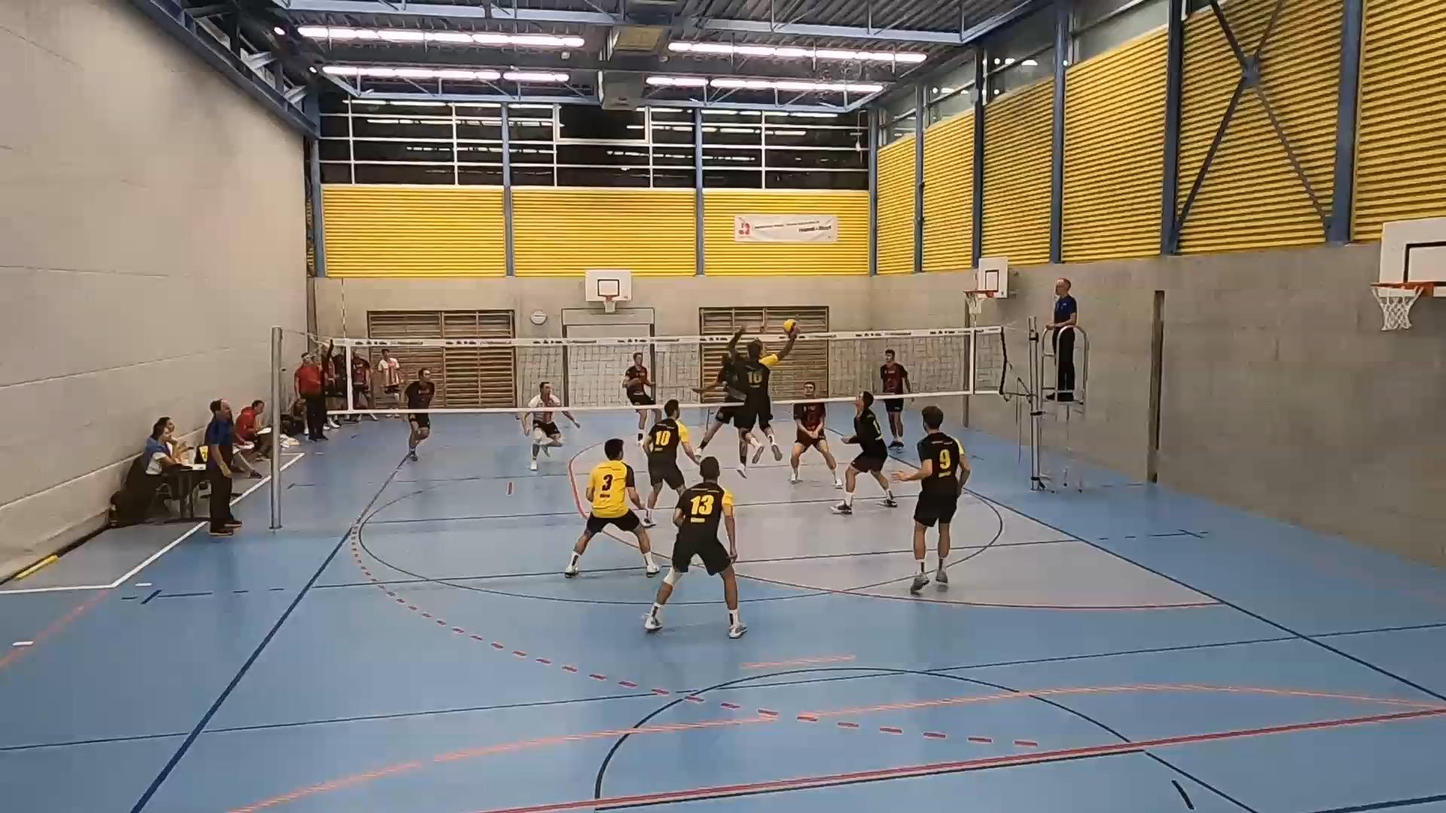attacco: (690, 325, 749, 476)
muro: (725, 318, 792, 459)
